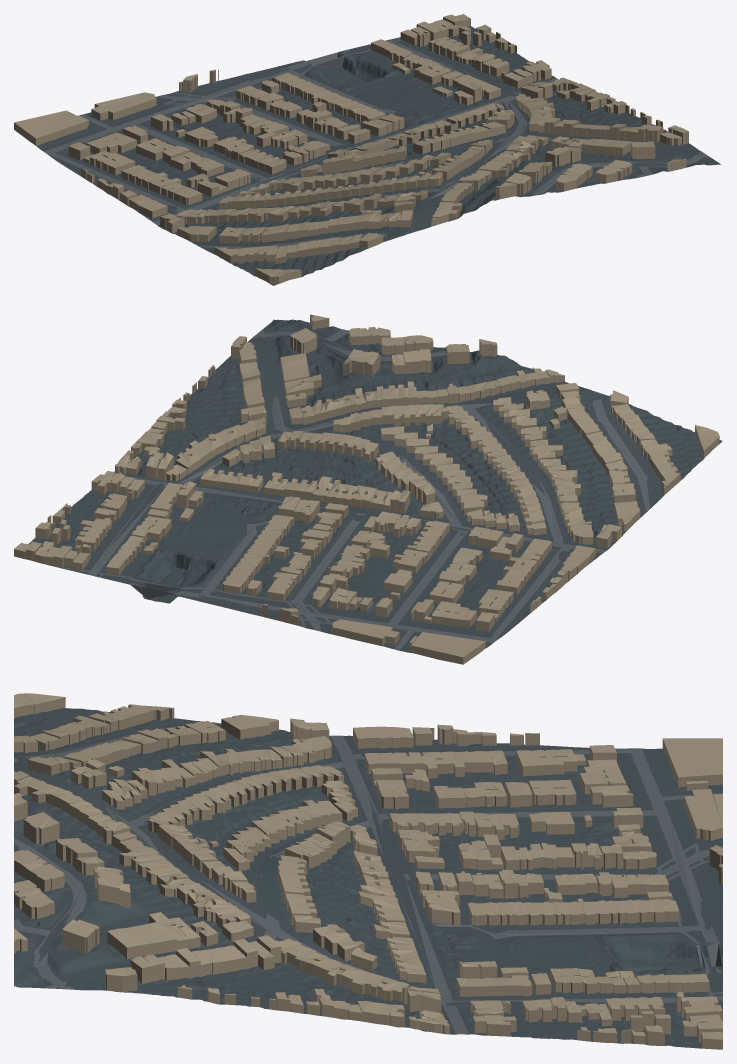
The model's file is epsg26910-1440-10875.lod0.glb.
3 renders of one model, top to bottom at view 1: azimuth 30°, elevation 25°; view 2: azimuth 150°, elevation 25°; view 3: azimuth 270°, elevation 25°, orthographic. The views are drawn at different scales.
Parts seen in each view (by area): view 1: epsg26910-1440-10875-lod0; view 2: epsg26910-1440-10875-lod0; view 3: epsg26910-1440-10875-lod0.
Part boxes in pixels (left/top/right/bottom): epsg26910-1440-10875-lod0: left=14, top=14, right=720, bottom=285; epsg26910-1440-10875-lod0: left=14, top=314, right=722, bottom=664; epsg26910-1440-10875-lod0: left=14, top=693, right=722, bottom=1049.
Bounding box in the file's own units: 384 × 73.03 × 384.
